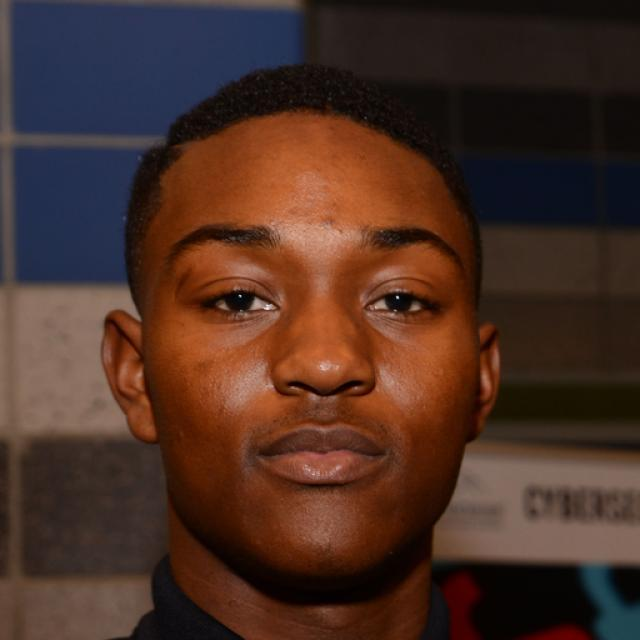neutral: (149, 114, 479, 576)
